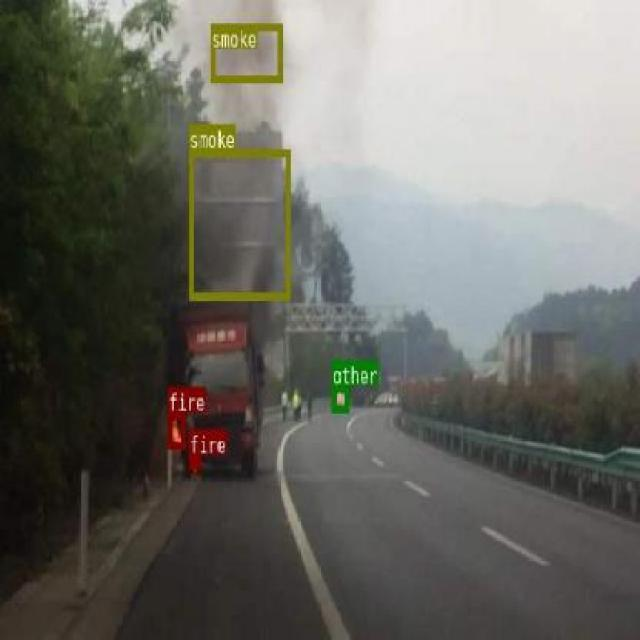Fire: (168, 411, 185, 447)
Smoke: (188, 148, 289, 300), (210, 23, 282, 82)
